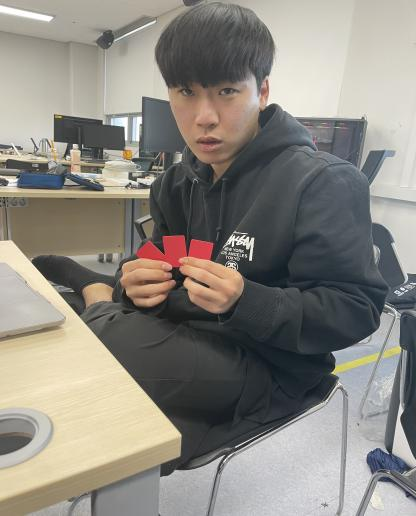ThreeHwatoo: (132, 225, 216, 276)
